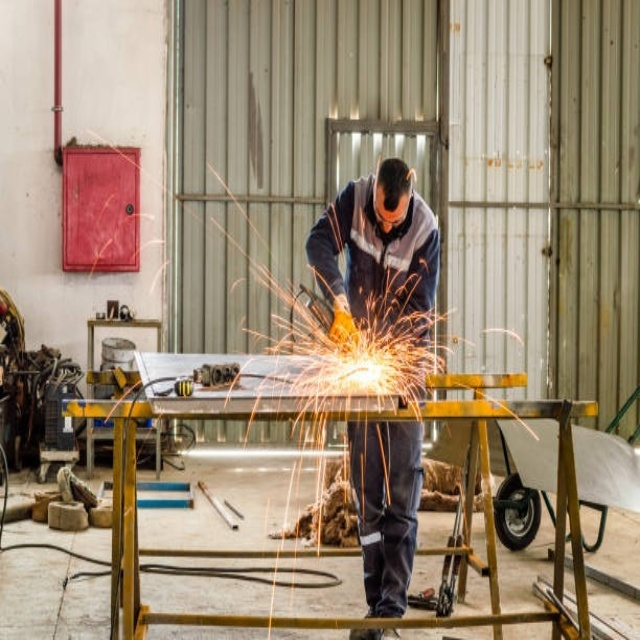Guantes: (323, 278, 360, 354)
